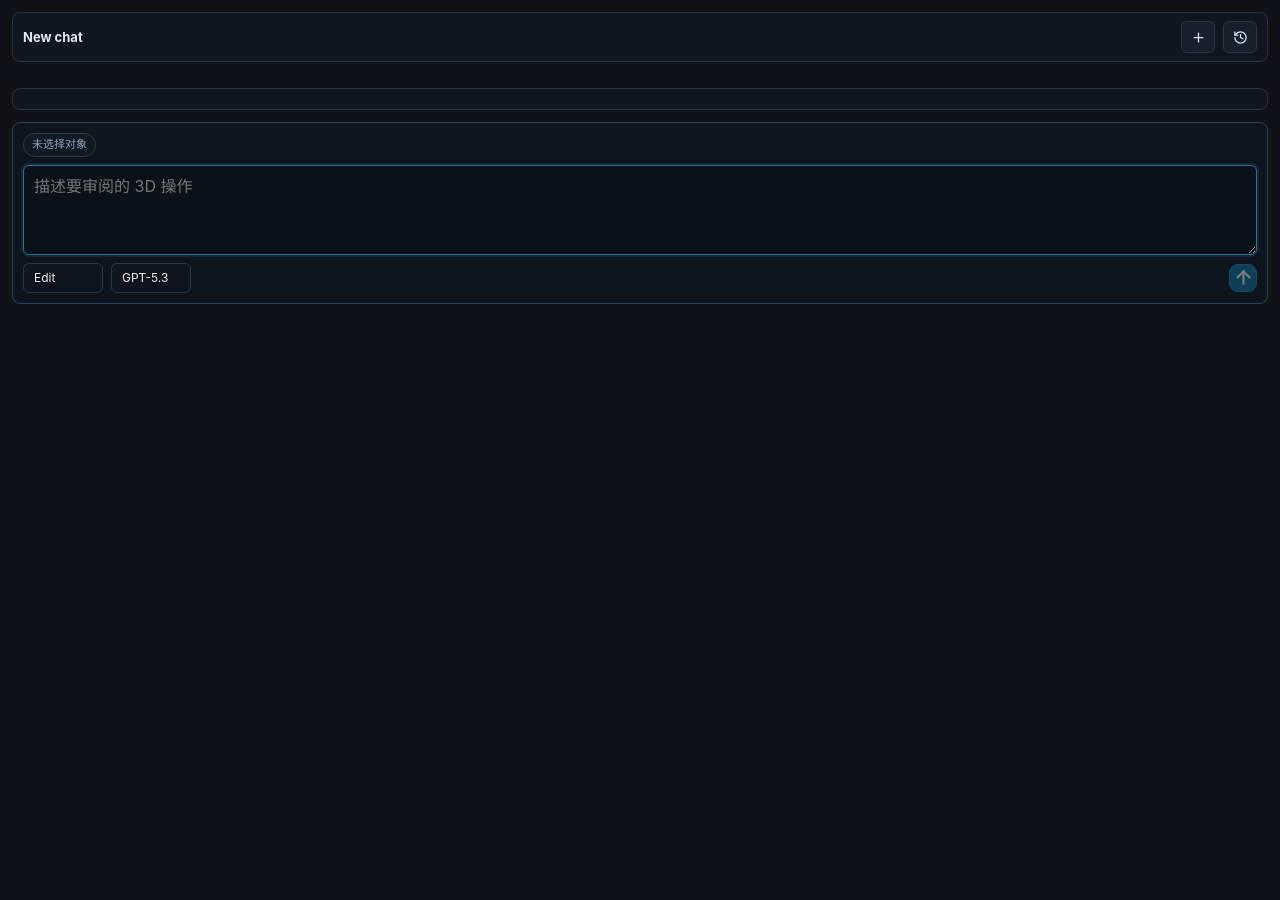
Test: AgentPanel › allows action plans while in Agent mode
Select "Agent" in the dropdown named "AI mode" at (63, 278), box 23,263 -> 103,293
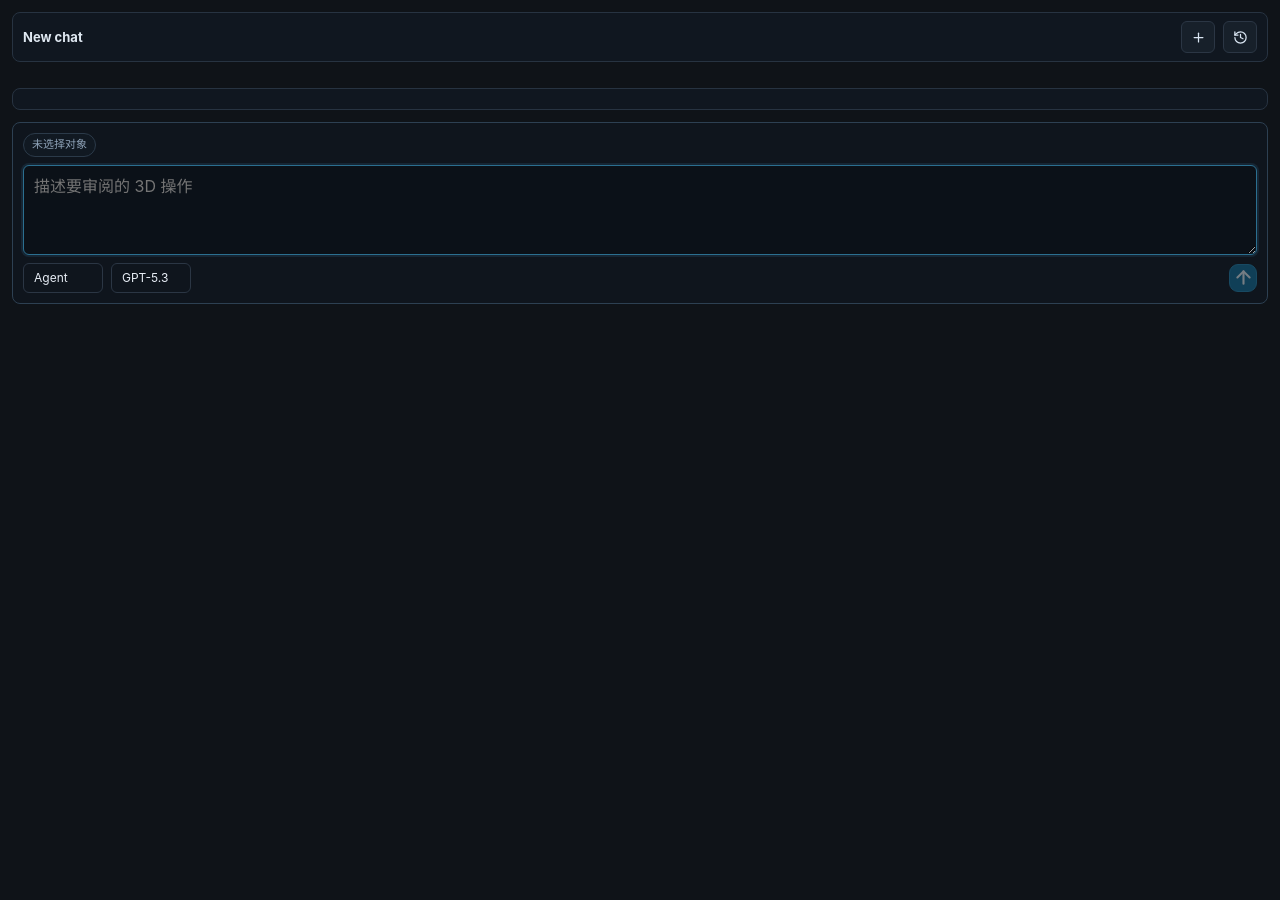
Type "规划两步操作" into the text box named "AI 指令输入" at (640, 210), box 23,165 -> 1257,255
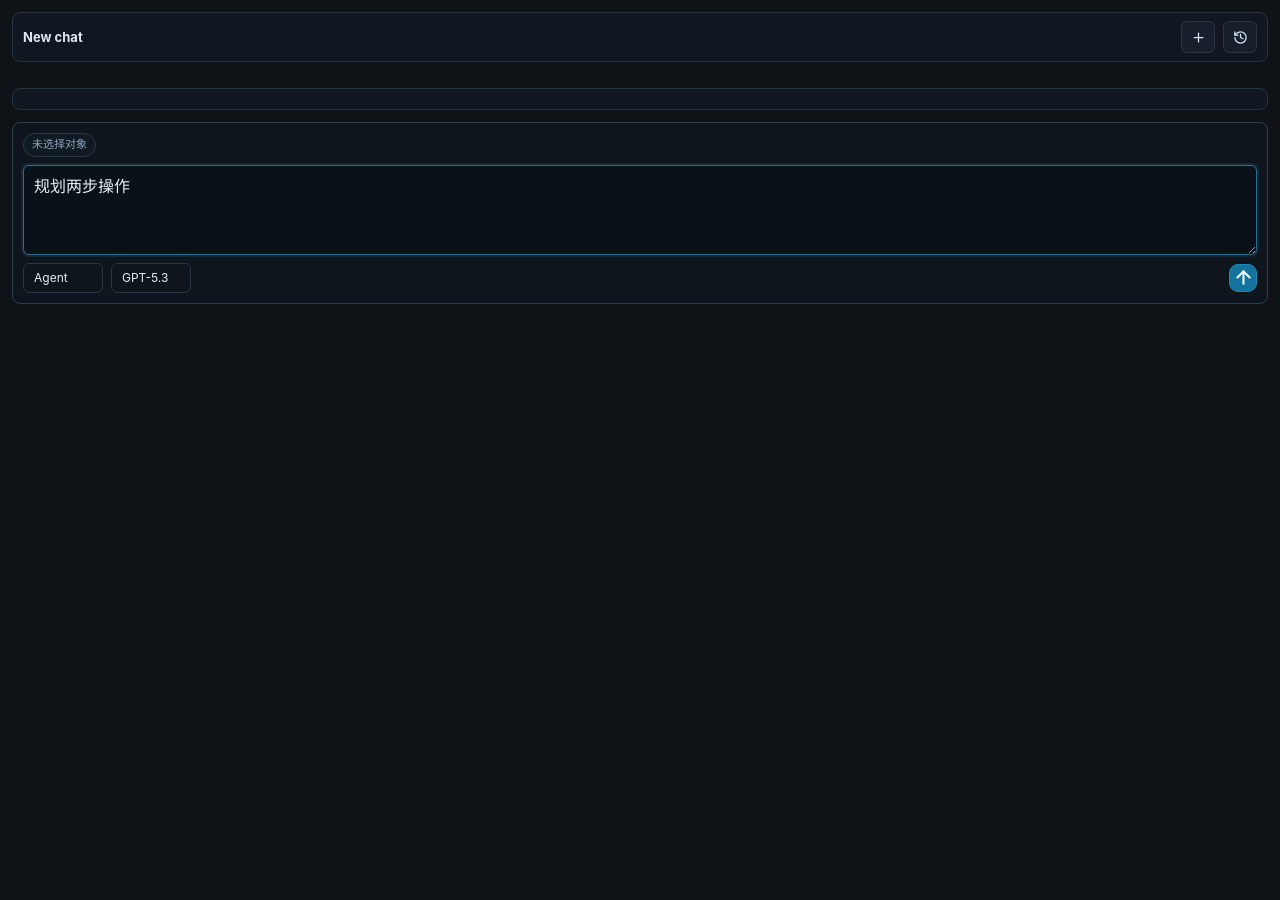
Click the button named "发送指令" at (1243, 278), box 1229,264 -> 1257,292
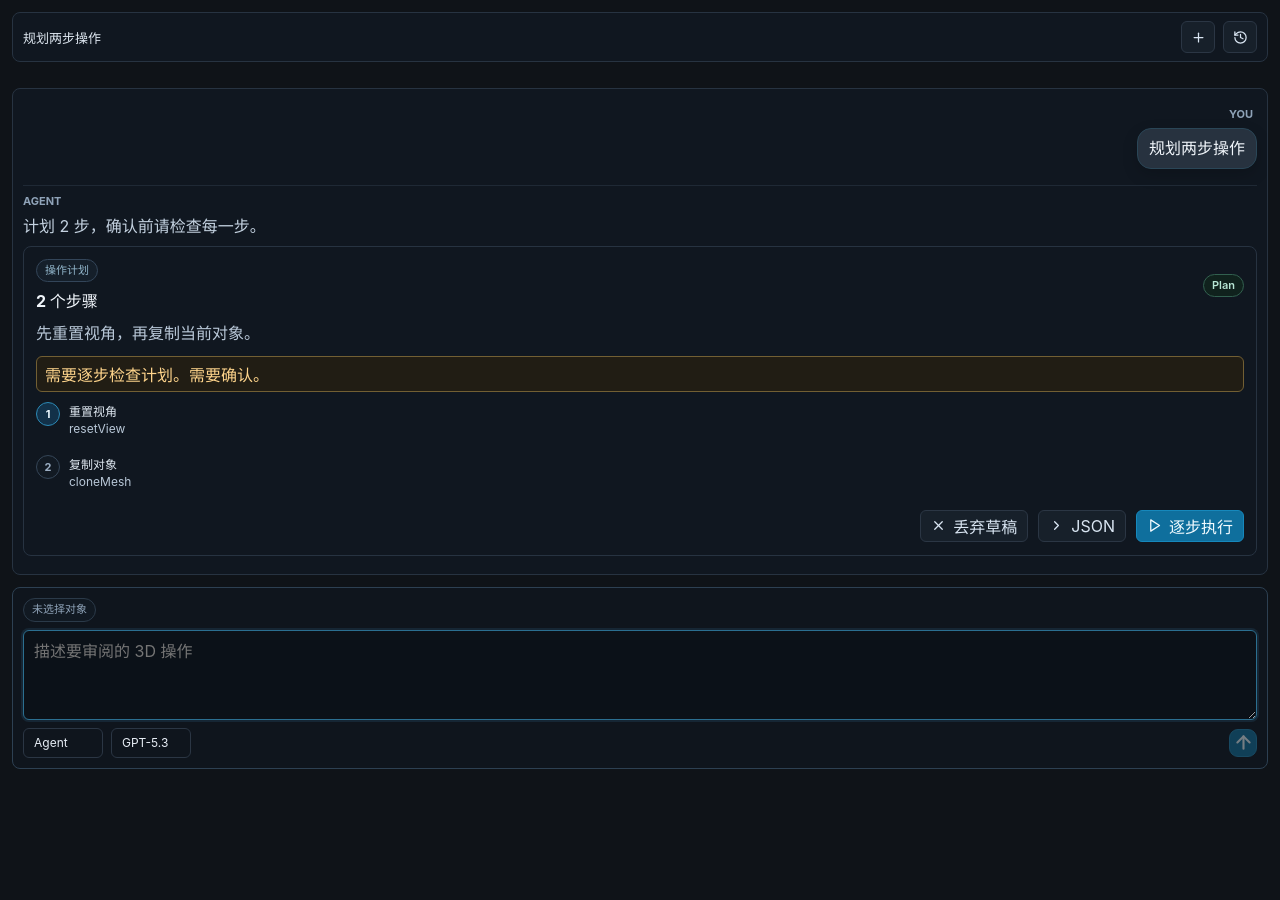
Check: the button "逐步执行" is shown, box 1136,510 -> 1244,542
